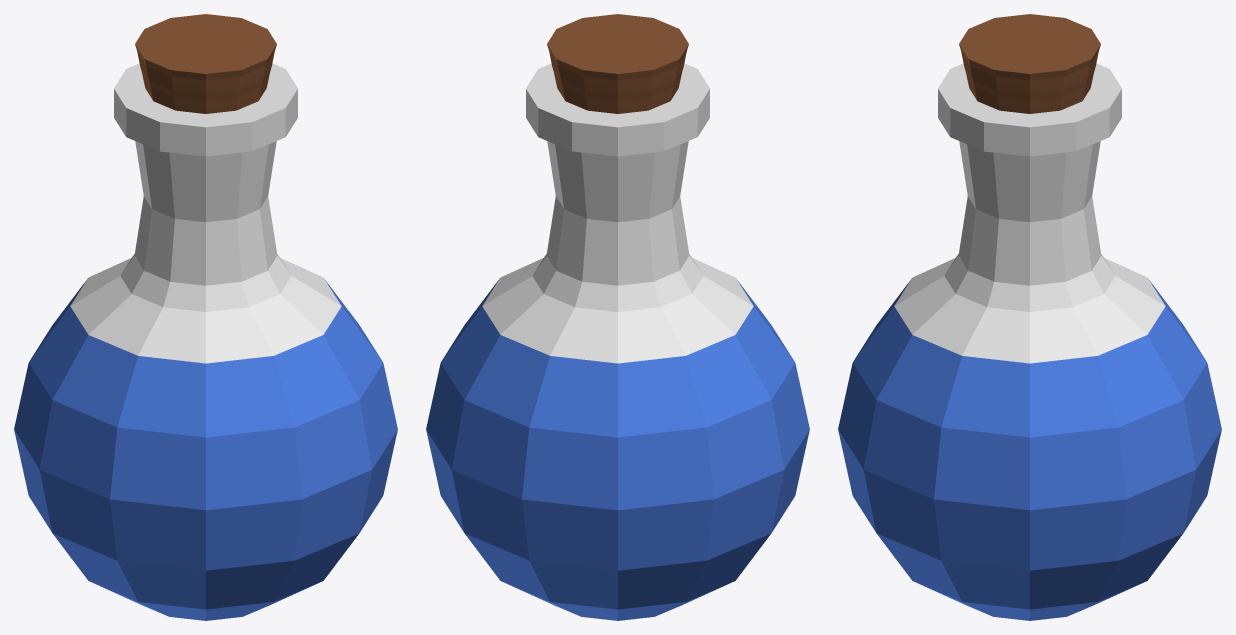
Rendered from small_potion_blue.fbx.
3 renders of one model, left to right at view 1: azimuth 30°, elevation 25°; view 2: azimuth 150°, elevation 25°; view 3: azimuth 270°, elevation 25°, orthographic.
Parts seen in each view (by area): view 1: bluepotion1; view 2: bluepotion1; view 3: bluepotion1.
Part boxes in pixels (bbox=[...]): bluepotion1: bbox=[14, 14, 397, 620]; bluepotion1: bbox=[426, 14, 809, 620]; bluepotion1: bbox=[838, 14, 1221, 620].
Size of the model in its own units: 36.95 by 57.97 by 36.95.
